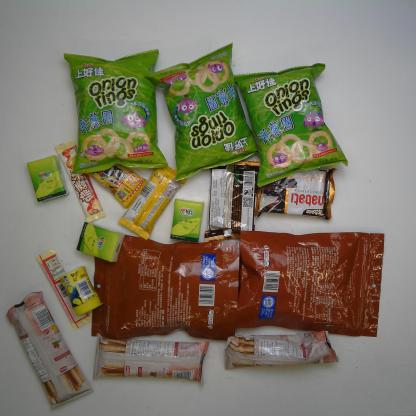Chocolate: (68, 141, 146, 208), (120, 167, 188, 239), (35, 249, 91, 330), (54, 139, 106, 224)
Dessert: (5, 289, 95, 408), (92, 332, 209, 384), (223, 329, 340, 371), (257, 165, 337, 221), (205, 156, 258, 238)
Dried Food: (91, 234, 237, 349), (228, 230, 386, 335)
Gum: (60, 266, 104, 314)
Puffed Food: (144, 43, 259, 184), (229, 61, 350, 188), (61, 46, 169, 173)
Tissue: (25, 154, 67, 206), (76, 220, 124, 264), (169, 197, 203, 244)
